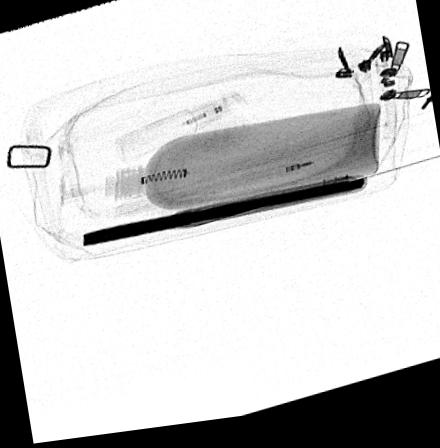Pliers: (79, 185, 366, 249)
